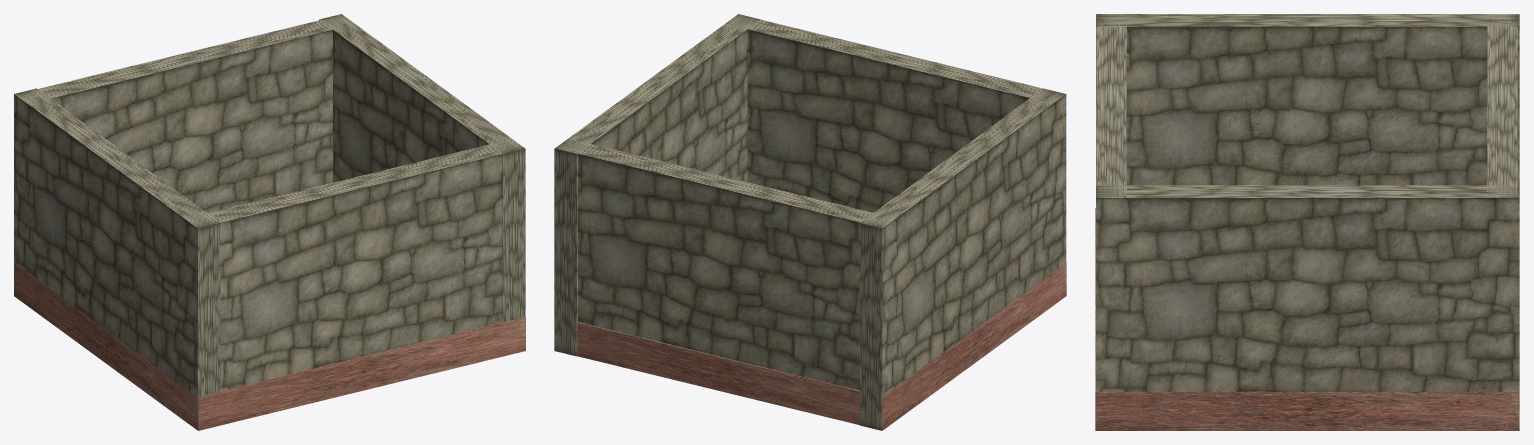
Rendered from MAP.FBX.
The picture shows the model from 3 angles, left to right: view 1: azimuth 30°, elevation 25°; view 2: azimuth 150°, elevation 25°; view 3: azimuth 270°, elevation 25°; orthographic projection. The views are drawn at different scales.
Parts seen in each view (by area): view 1: Box004, Box002, Box005, Box003, Box001; view 2: Box005, Box002, Box004, Box003, Box001; view 3: Box003, Box002, Box001, Box005, Box004.
Boxes of the visible parts, <box> form: Box004: <box>208,144,506,390</box>; Box002: <box>14,88,220,396</box>; Box005: <box>36,15,351,213</box>; Box003: <box>319,14,525,322</box>; Box001: <box>14,263,525,430</box>; Box005: <box>556,138,884,390</box>; Box002: <box>859,88,1066,430</box>; Box004: <box>726,14,1055,212</box>; Box003: <box>554,14,760,356</box>; Box001: <box>577,262,1066,430</box>; Box003: <box>1096,185,1519,430</box>; Box002: <box>1096,14,1519,185</box>; Box001: <box>1095,208,1518,430</box>; Box005: <box>1487,19,1517,197</box>; Box004: <box>1096,20,1126,197</box>.
Size of the model in its own units: 4224 by 4112 by 2491.
